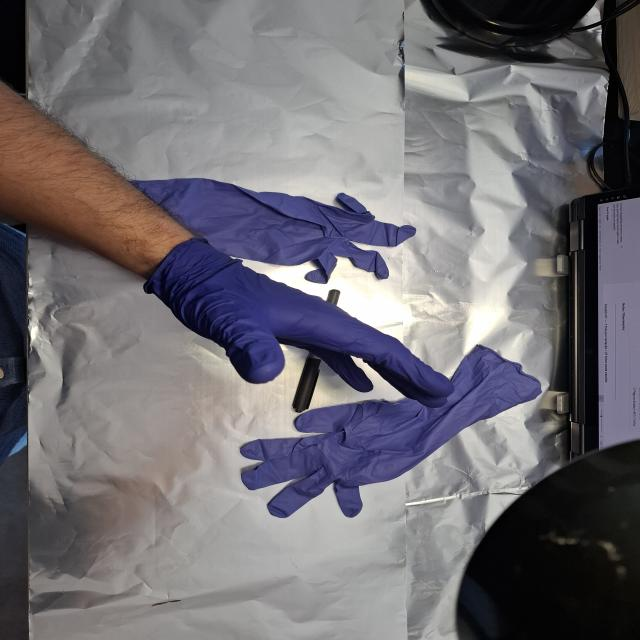glove_on: (149, 238, 458, 411)
